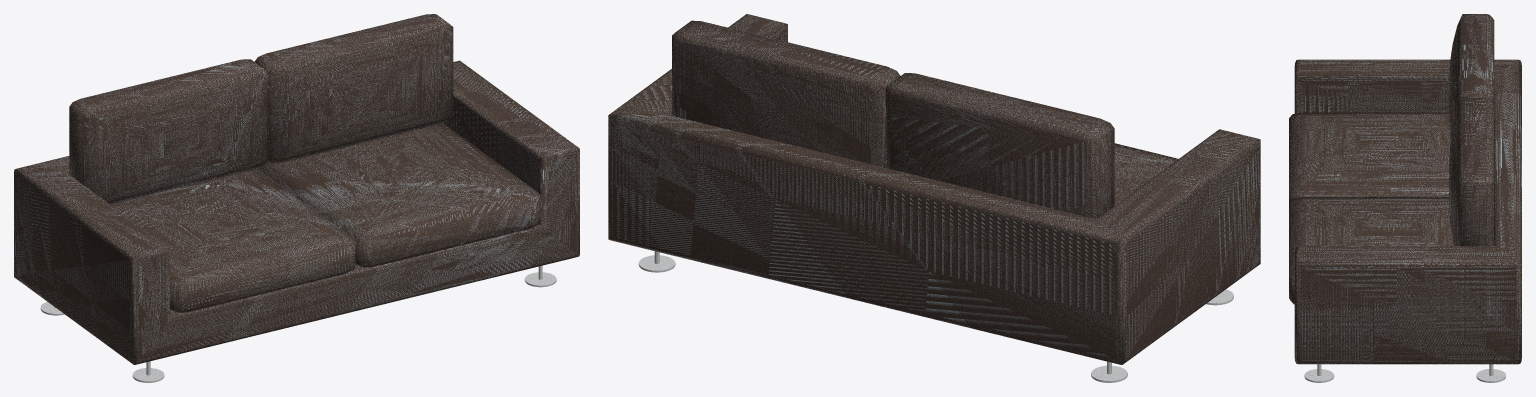
File: couch.dae
The picture shows the model from 3 angles, left to right: view 1: azimuth 30°, elevation 25°; view 2: azimuth 150°, elevation 25°; view 3: azimuth 270°, elevation 25°; orthographic projection. The views are drawn at different scales.
Parts seen in each view (by area): view 1: Couch, Seat (×2), Back_Cushion (×2); view 2: Couch, Back_Cushion (×2), Seat; view 3: Couch, Seat (×2), Back_Cushion (×2), Leg (×2).
Part boxes in pixels (box(x1,y1,x2,y2)): Couch: box(14, 60, 579, 364); Seat (×2): box(110, 123, 540, 313); Back_Cushion (×2): box(69, 14, 453, 204); Couch: box(608, 14, 1260, 364); Back_Cushion (×2): box(672, 20, 1114, 219); Seat: box(1114, 143, 1178, 205); Couch: box(1294, 59, 1521, 364); Seat (×2): box(1289, 112, 1453, 304); Back_Cushion (×2): box(1449, 14, 1494, 246); Leg (×2): box(1304, 369, 1505, 382).
Bounding box in the file's own units: 80.13 × 38.53 × 35.06.
Materials: 3 (1 with a texture image).
